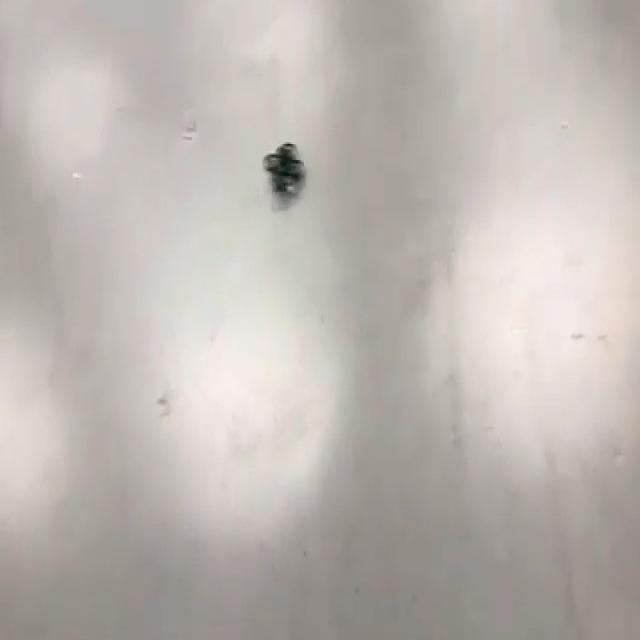drone: (253, 117, 314, 214)
